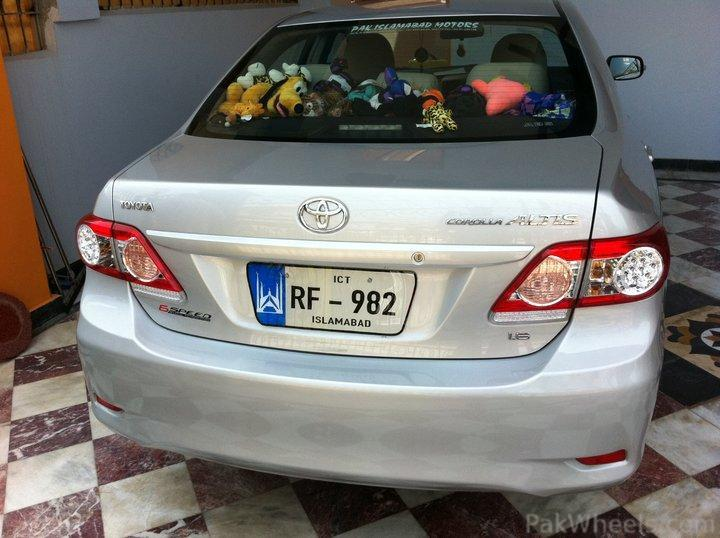license plate: (247, 262, 419, 333)
